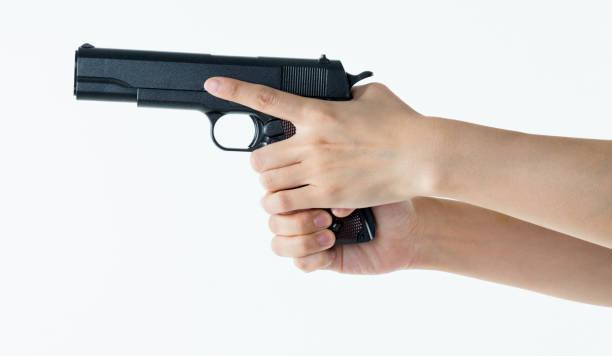weapon: (71, 41, 379, 244)
